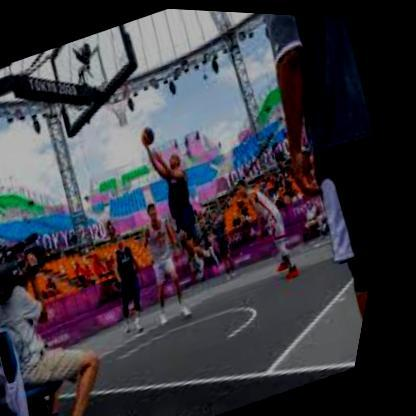basketball: (140, 119, 164, 145)
rim: (103, 83, 135, 110)
